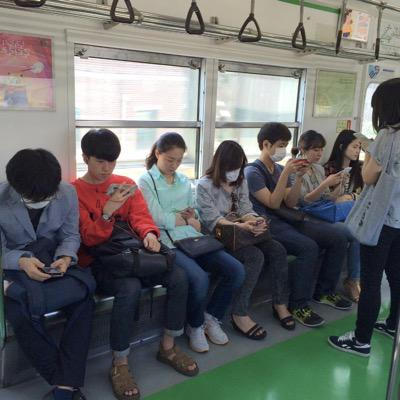with_mask: (269, 142, 286, 163), (225, 165, 242, 185)
without_mask: (90, 158, 117, 181), (159, 153, 183, 174), (305, 146, 324, 164), (347, 143, 362, 161)
